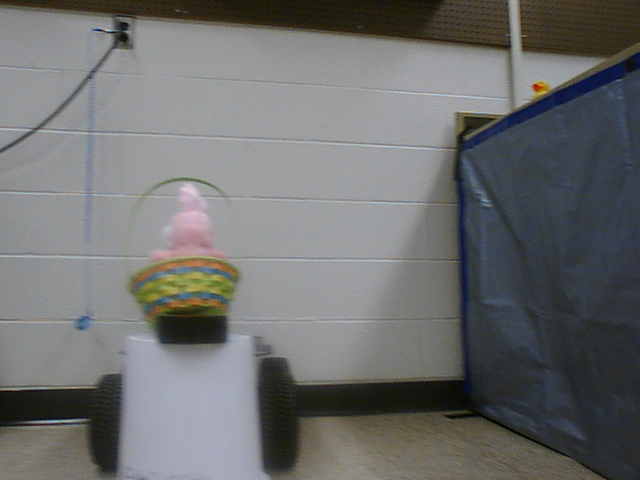bunny: (116, 165, 253, 340)
